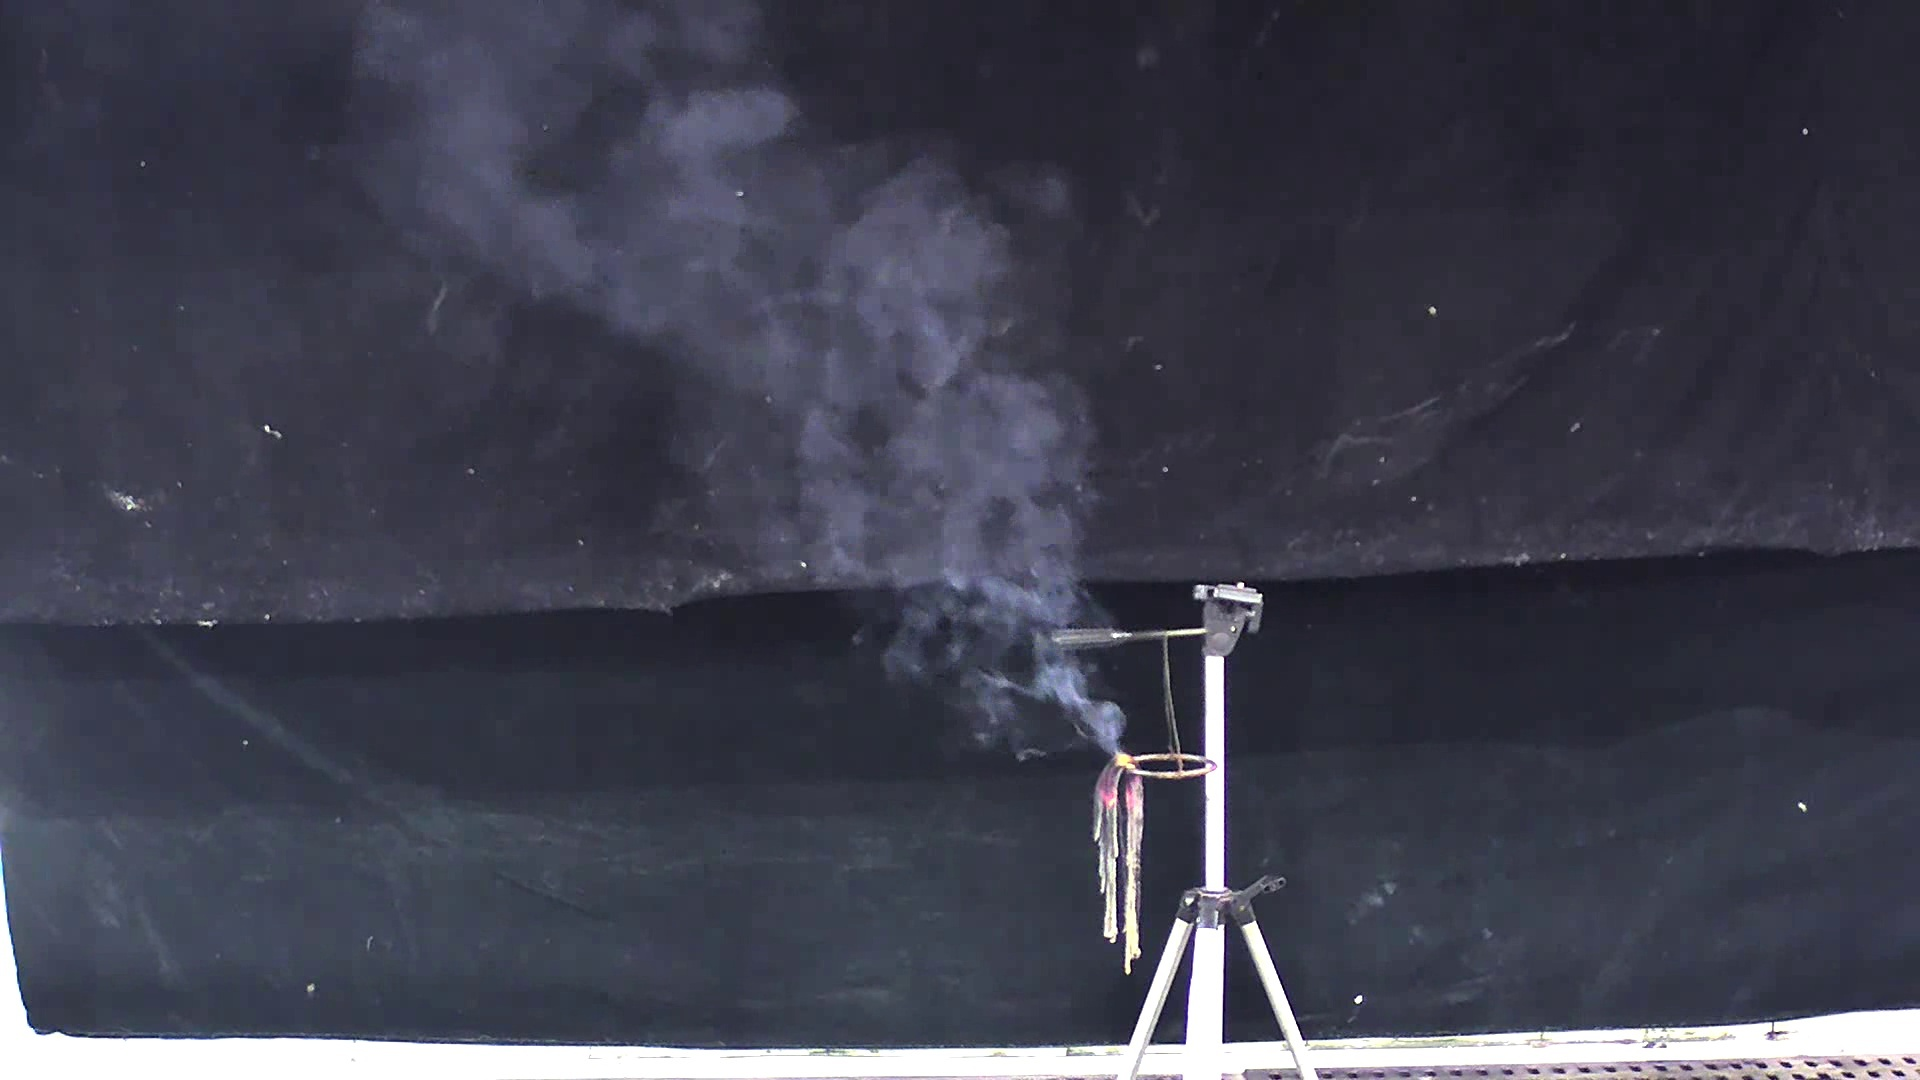smoke: (357, 34, 1124, 761)
